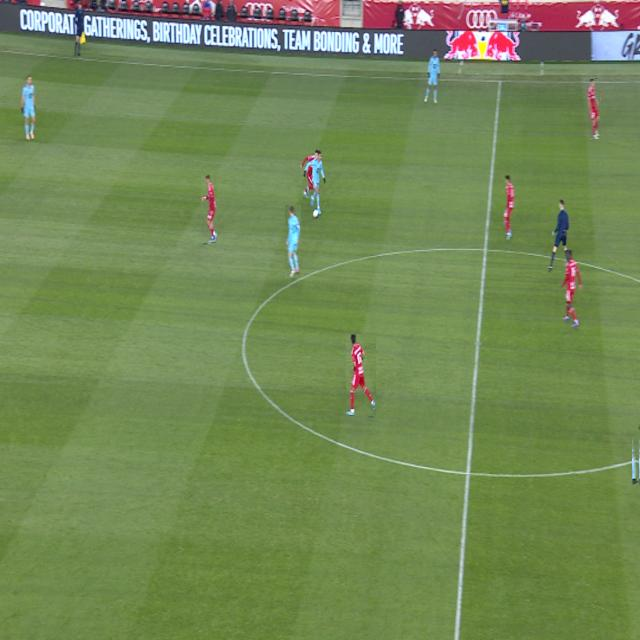football: (313, 209, 318, 218)
player: (346, 335, 376, 416), (561, 250, 582, 328), (304, 151, 325, 215), (286, 205, 301, 278), (21, 76, 37, 140), (202, 176, 217, 243), (424, 49, 440, 104), (588, 79, 600, 139), (503, 175, 514, 240), (632, 438, 640, 485), (303, 165, 314, 198), (300, 150, 318, 167)
referee: (548, 199, 569, 271)
